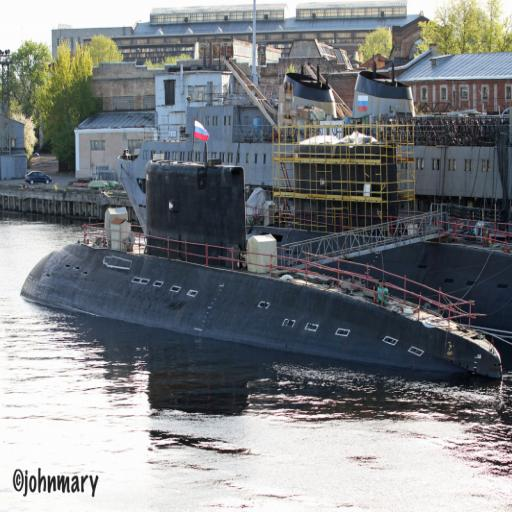submarine: (2, 116, 505, 380)
